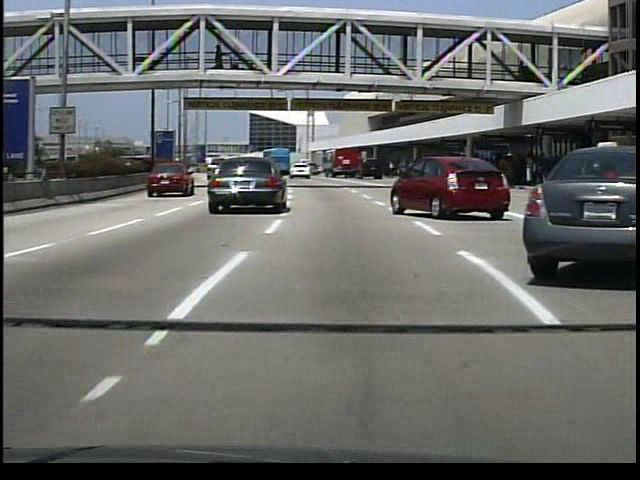person: (215, 44, 230, 72)
